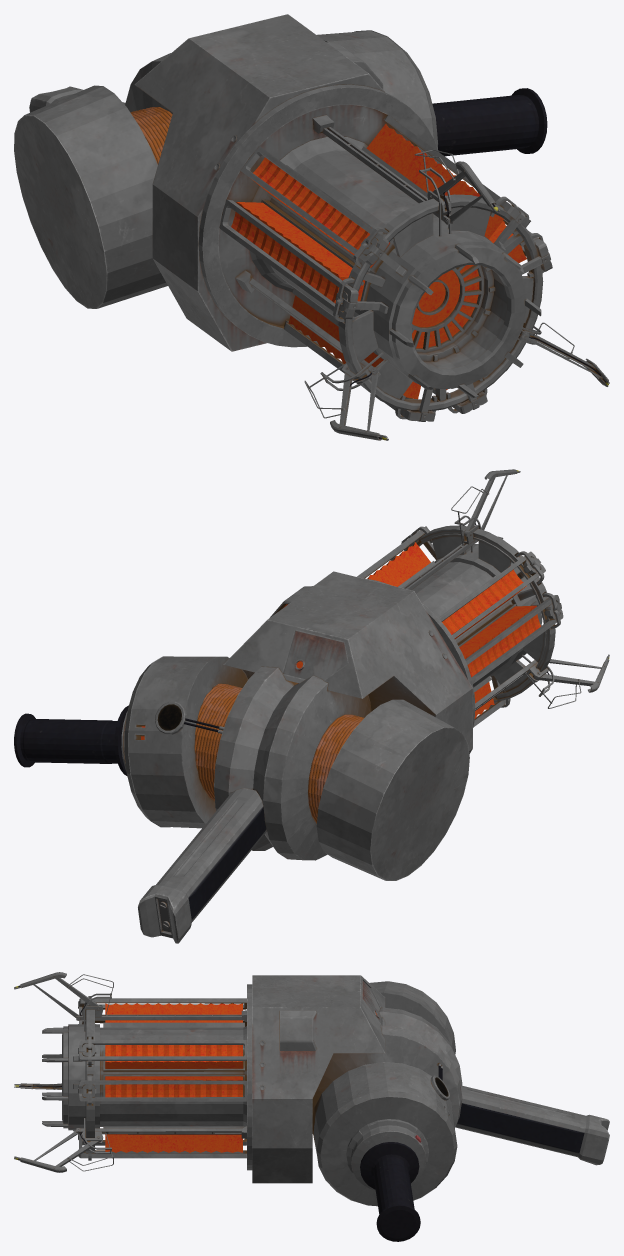
File: gravitygun.glb
3 renders of one model, top to bottom at view 1: azimuth 30°, elevation 25°; view 2: azimuth 150°, elevation 25°; view 3: azimuth 270°, elevation 25°, orthographic. The views are drawn at different scales.
Visible parts, largest first — view 1: Metal, Another, Light; view 2: Metal, Another, Light; view 3: Metal, Light, Another.
Boxes of the visible parts, x1,y1,x2,y2 form: Metal: (14, 14, 609, 440); Another: (130, 84, 608, 440); Light: (231, 124, 526, 399); Metal: (121, 469, 609, 943); Another: (14, 470, 609, 823); Light: (141, 542, 540, 739); Metal: (14, 972, 609, 1206); Light: (105, 1003, 376, 1152); Another: (15, 981, 449, 1241).
Size of the model in its own units: 2.57 by 1.41 by 3.99.
Materials: 3 (3 with a texture image).
